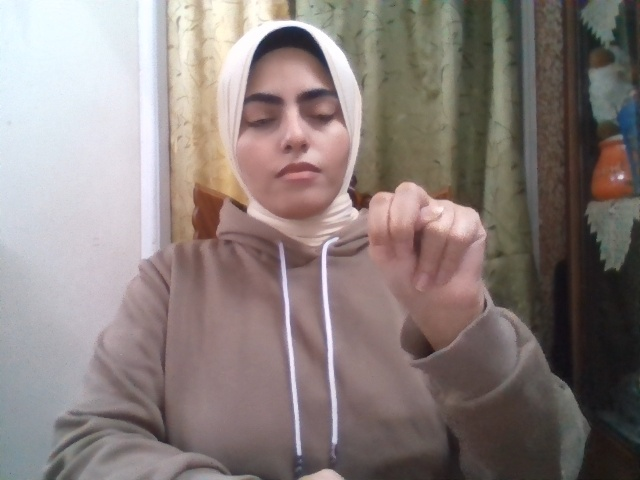N: (367, 181, 486, 312)
